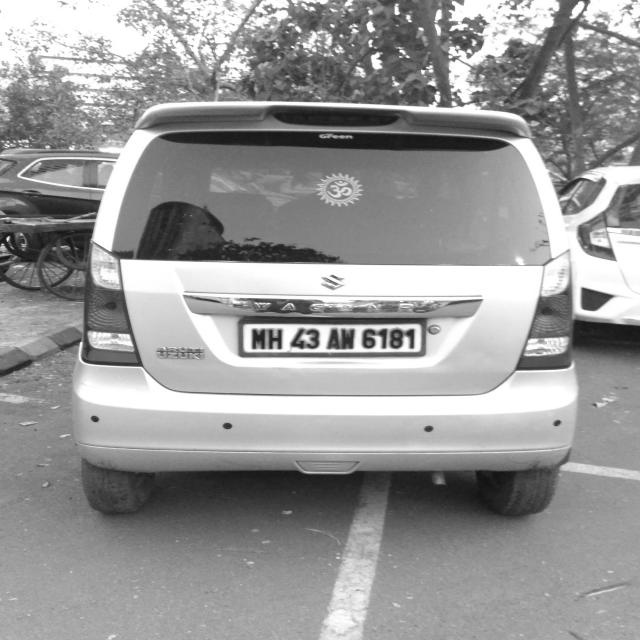car: (68, 92, 590, 523)
license-plate: (236, 320, 429, 360)
